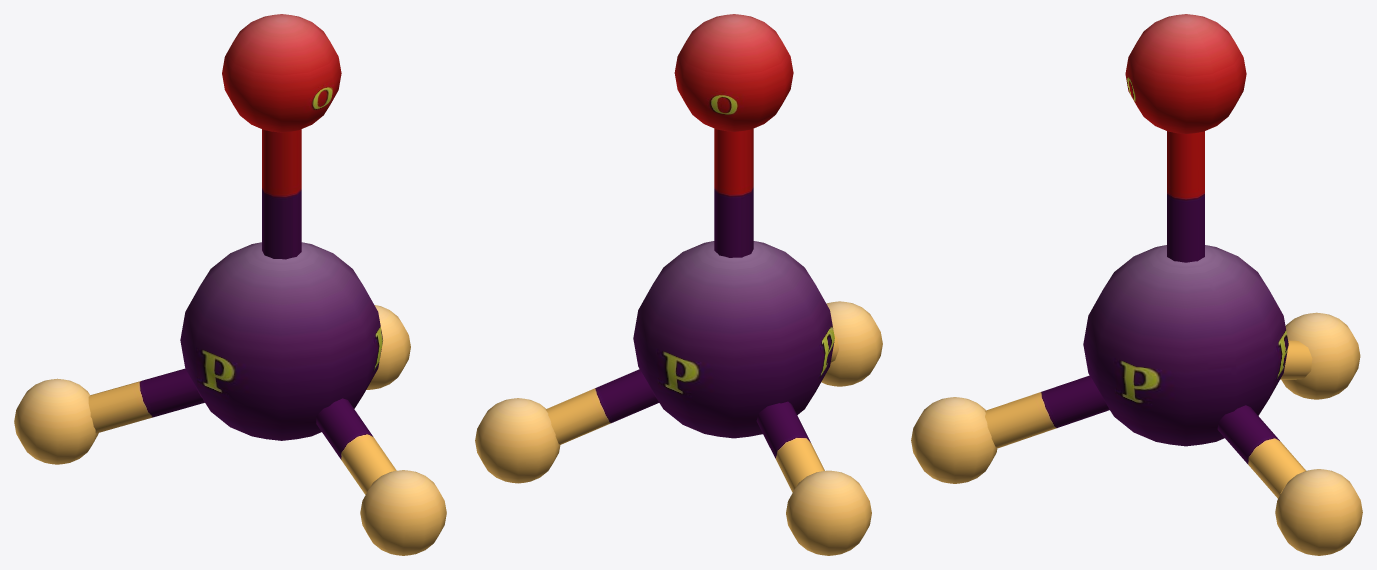
The model's file is POCl3.dae.
3 renders of one model, left to right at view 1: azimuth 30°, elevation 25°; view 2: azimuth 150°, elevation 25°; view 3: azimuth 270°, elevation 25°, orthographic.
Visible parts, largest first — view 1: polySurface21; view 2: polySurface21; view 3: polySurface21.
Part boxes in pixels (x1,y1,x2,y2): polySurface21: (14, 14, 446, 555); polySurface21: (475, 14, 882, 555); polySurface21: (911, 14, 1362, 555).
Bounding box in the file's own units: 2.31 × 2.58 × 2.31.
Materials: 1 (1 with a texture image).
